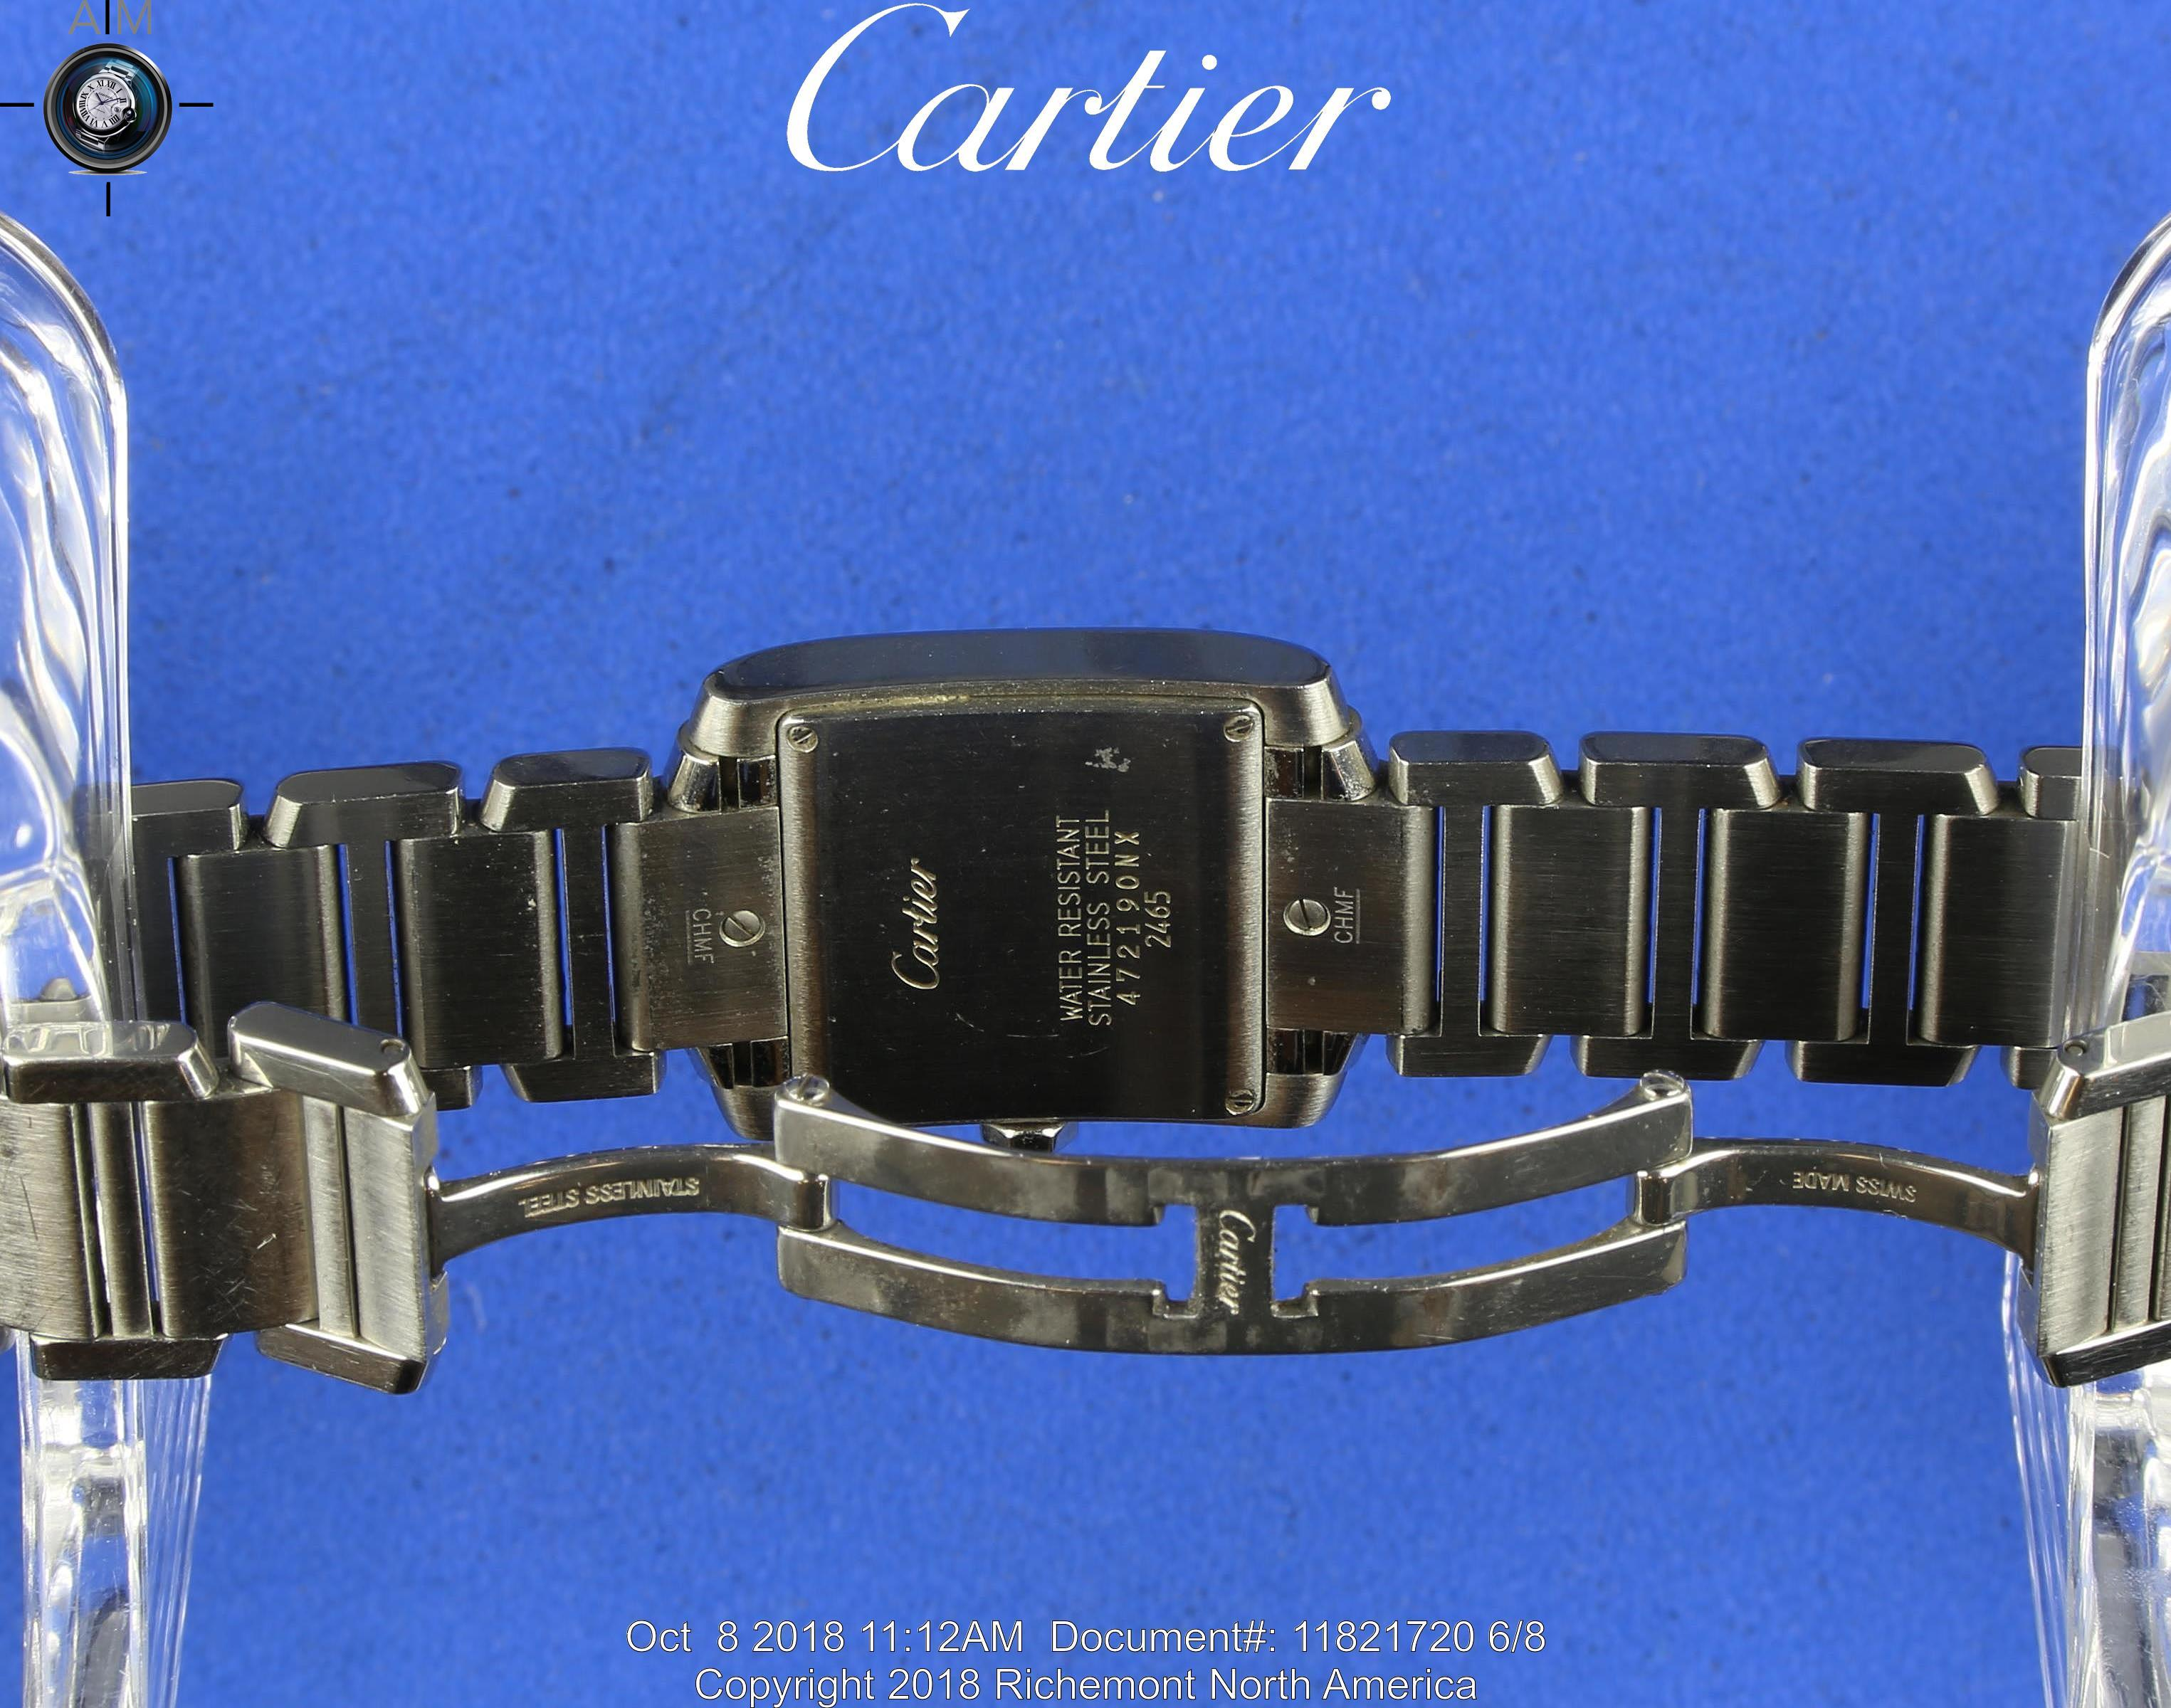watchback: (770, 696, 1267, 1116)
